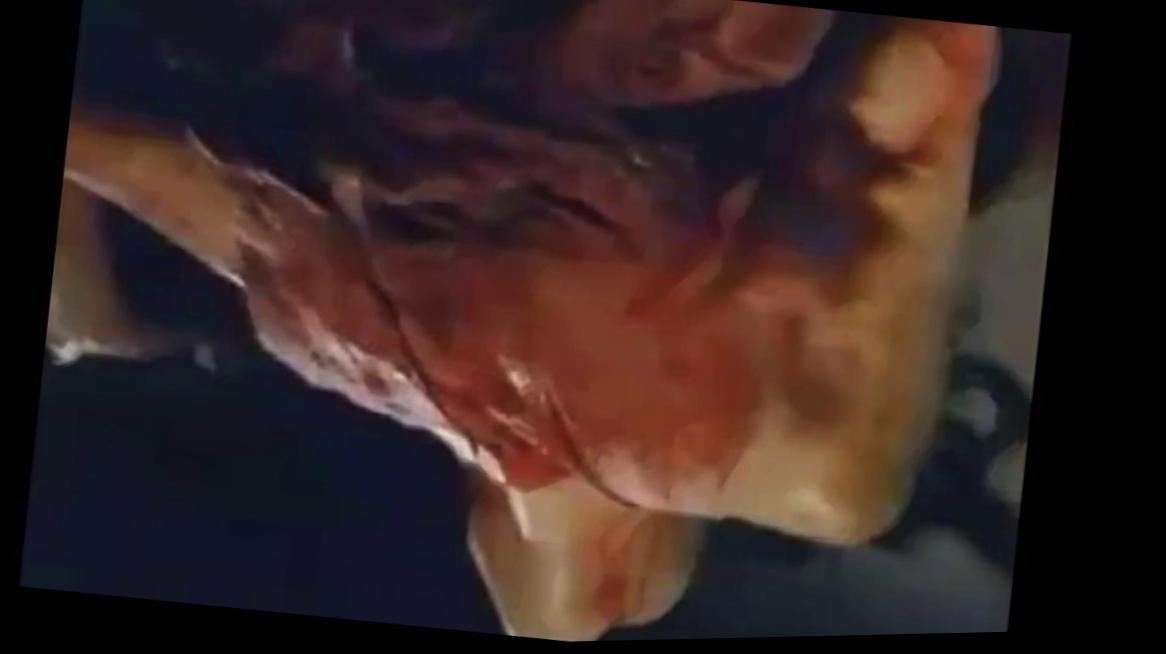Fire: (69, 0, 1003, 644)
